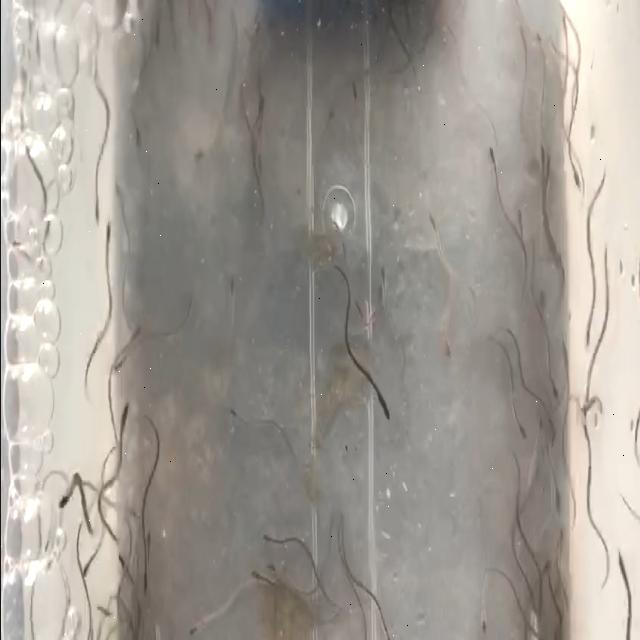active_glass_eel: (531, 46, 555, 97), (228, 395, 250, 441), (426, 208, 446, 254), (554, 6, 571, 59), (254, 556, 272, 604), (506, 198, 526, 240), (184, 604, 210, 636), (438, 327, 461, 362), (485, 136, 505, 174), (534, 414, 550, 461), (551, 588, 565, 640), (536, 553, 552, 598), (51, 478, 69, 517), (90, 179, 104, 229), (580, 322, 598, 360), (379, 385, 393, 431), (99, 218, 113, 264), (546, 349, 560, 394), (567, 150, 581, 192), (526, 470, 542, 506), (258, 528, 284, 550), (346, 78, 361, 116), (539, 169, 554, 206), (137, 564, 152, 599), (615, 550, 632, 580), (512, 410, 530, 438), (514, 28, 528, 64), (590, 399, 606, 429), (544, 440, 560, 470), (238, 39, 252, 73), (188, 148, 206, 174), (577, 420, 592, 451), (115, 341, 127, 377), (118, 401, 132, 431), (478, 608, 491, 640), (223, 276, 236, 308), (379, 252, 388, 296), (544, 474, 558, 502), (82, 552, 90, 582)
